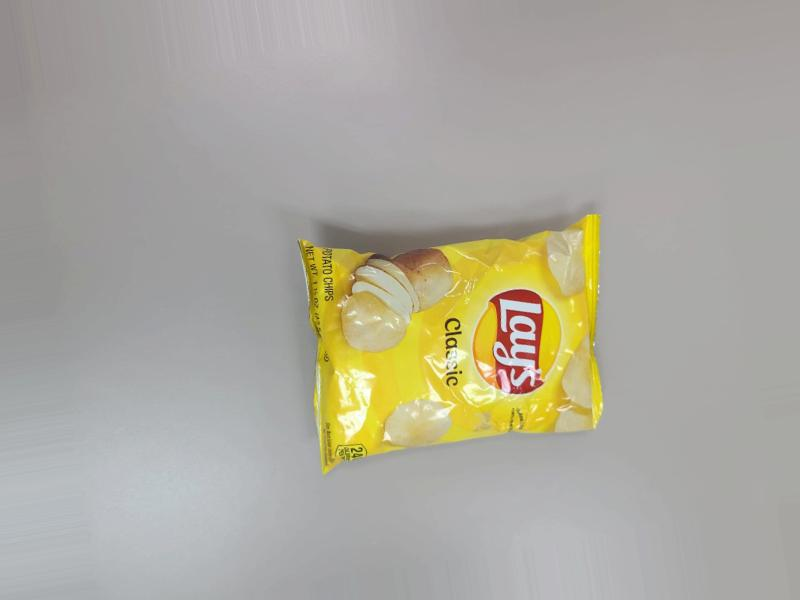lays: (316, 220, 596, 493)
